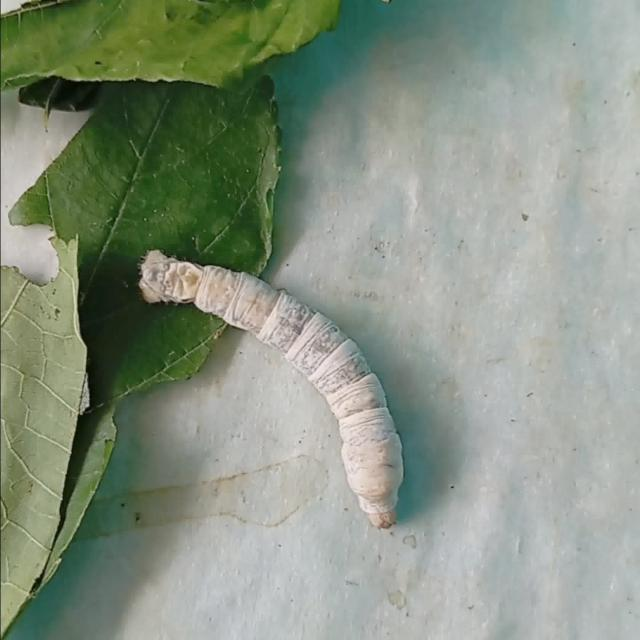Grasserie: (125, 230, 411, 538)
